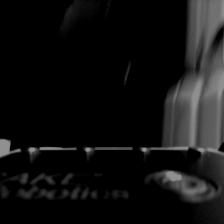Door Handle: (96, 9, 140, 47)
Lock: (114, 61, 134, 89)
